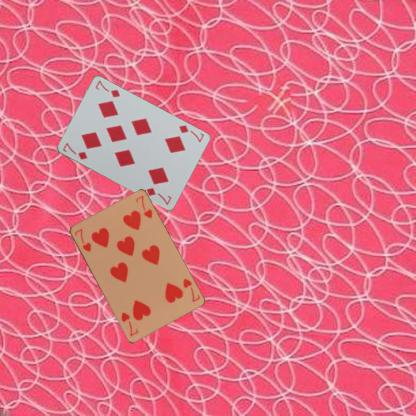7d: (176, 122, 205, 144), (60, 140, 88, 161)
7h: (180, 275, 201, 303), (72, 226, 92, 253)
